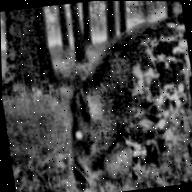boar: (37, 5, 192, 188)
